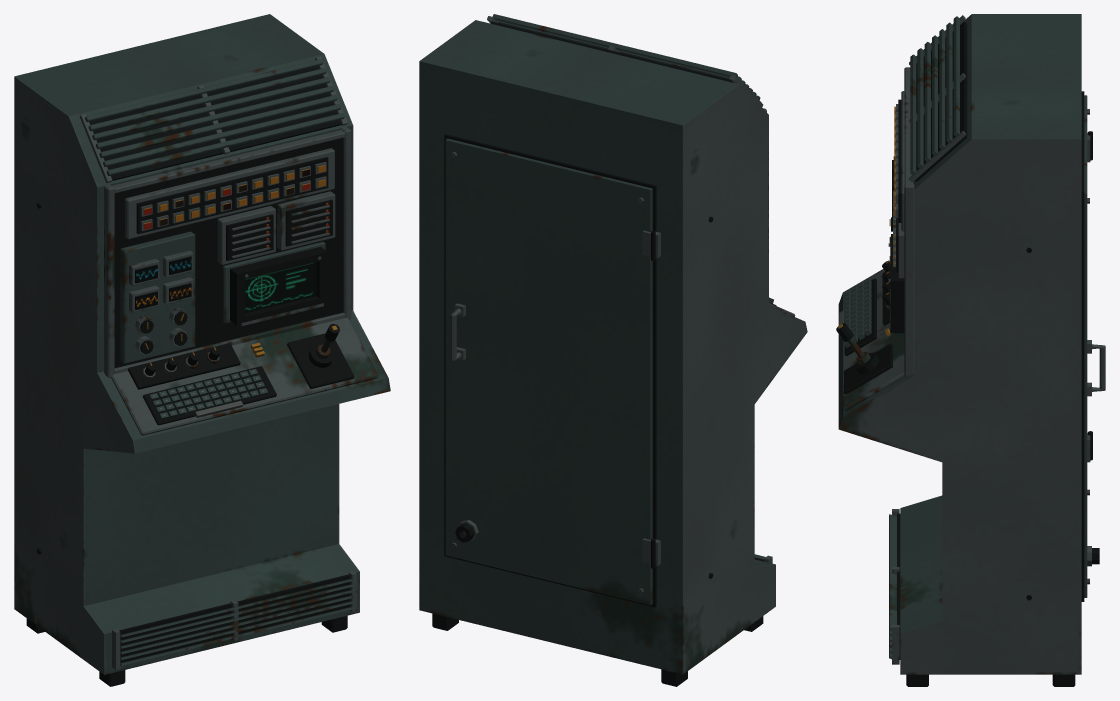
The model's file is control_console.glb.
The picture shows the model from 3 angles, left to right: view 1: azimuth 30°, elevation 25°; view 2: azimuth 150°, elevation 25°; view 3: azimuth 270°, elevation 25°; orthographic projection. The views are drawn at different scales.
Parts seen in each view (by area): view 1: ControlConsoleMesh; view 2: ControlConsoleMesh; view 3: ControlConsoleMesh.
Boxes of the visible parts, bbox=[...] form: ControlConsoleMesh: bbox=[14, 14, 390, 686]; ControlConsoleMesh: bbox=[419, 14, 807, 686]; ControlConsoleMesh: bbox=[836, 14, 1105, 686].
Size of what is drawn, in the model's own units: 0.865 by 1.76 by 0.7739.
Materials: 1 (1 with a texture image).
